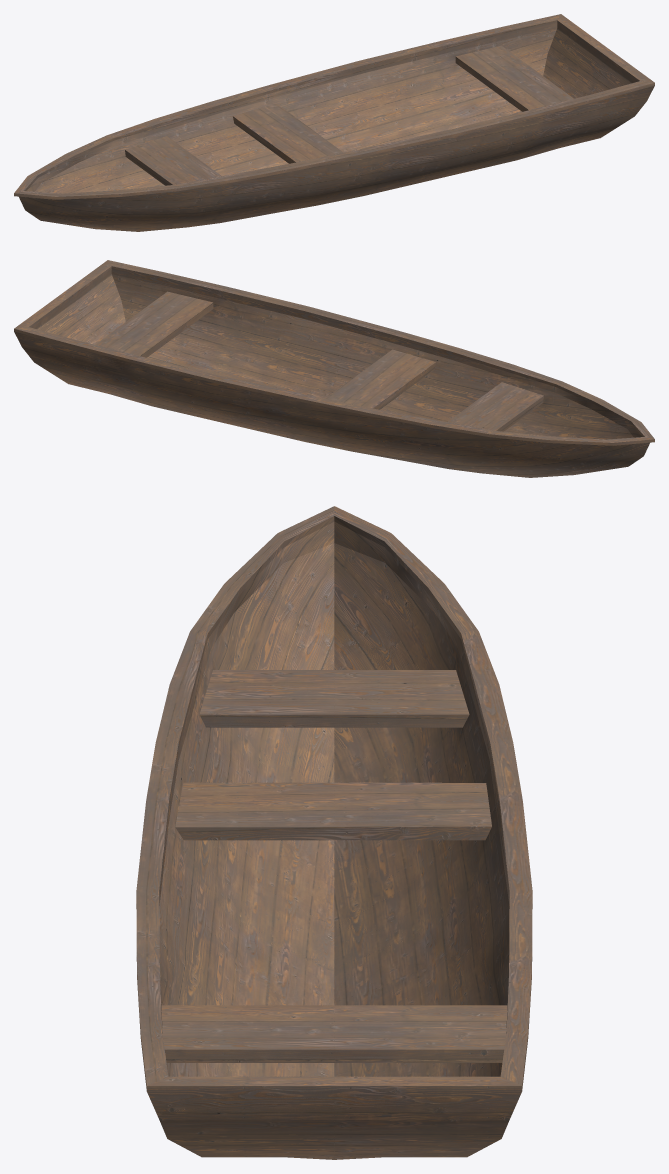
File: lifeboat_01.FBX
The picture shows the model from 3 angles, top to bottom: view 1: azimuth 30°, elevation 25°; view 2: azimuth 150°, elevation 25°; view 3: azimuth 270°, elevation 25°; orthographic projection. The views are drawn at different scales.
Parts seen in each view (by area): view 1: lifeboat_01; view 2: lifeboat_01; view 3: lifeboat_01.
Boxes of the visible parts, bbox=[...] form: lifeboat_01: bbox=[14, 14, 654, 231]; lifeboat_01: bbox=[14, 260, 654, 477]; lifeboat_01: bbox=[136, 506, 532, 1159].
Size of the model in its own units: 149 by 19 by 43.11.
Materials: 1 (1 with a texture image).
